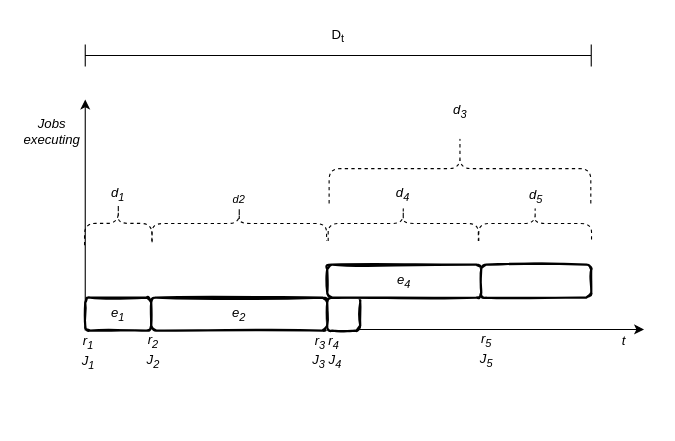
This 675x441 diagram has some shape labels left out. Each missing label, with the box of its shape:
e 3: (326, 296, 361, 331)
e 5: (480, 263, 592, 298)
